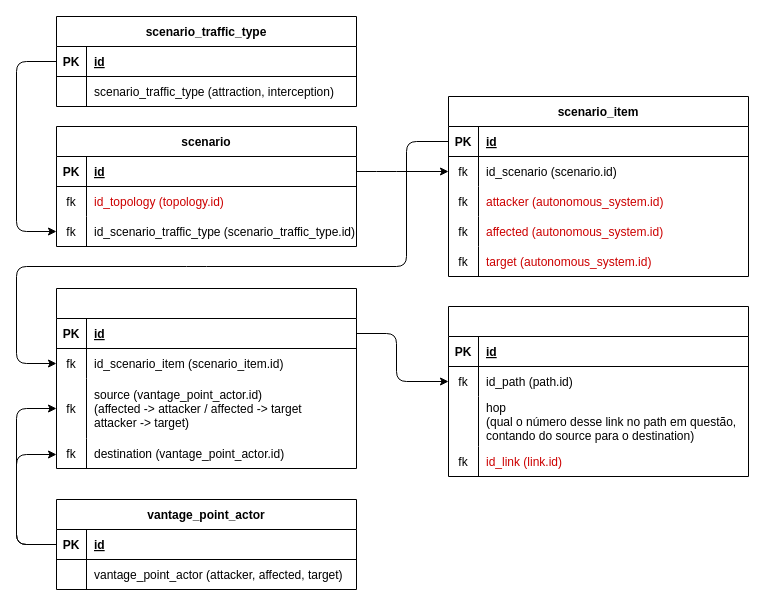
This 765x606 diagram has some shape labels left out. The shapes that lost their labels are listed below. From the top down, each one's box as (x1, y1, x2, y2) in pixels, then its label:
(56, 288, 356, 468): path
(448, 306, 748, 476): path_item
